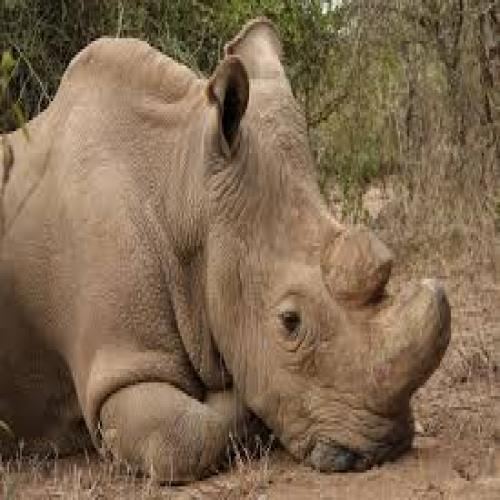rhino-endangered: (25, 16, 454, 492)
